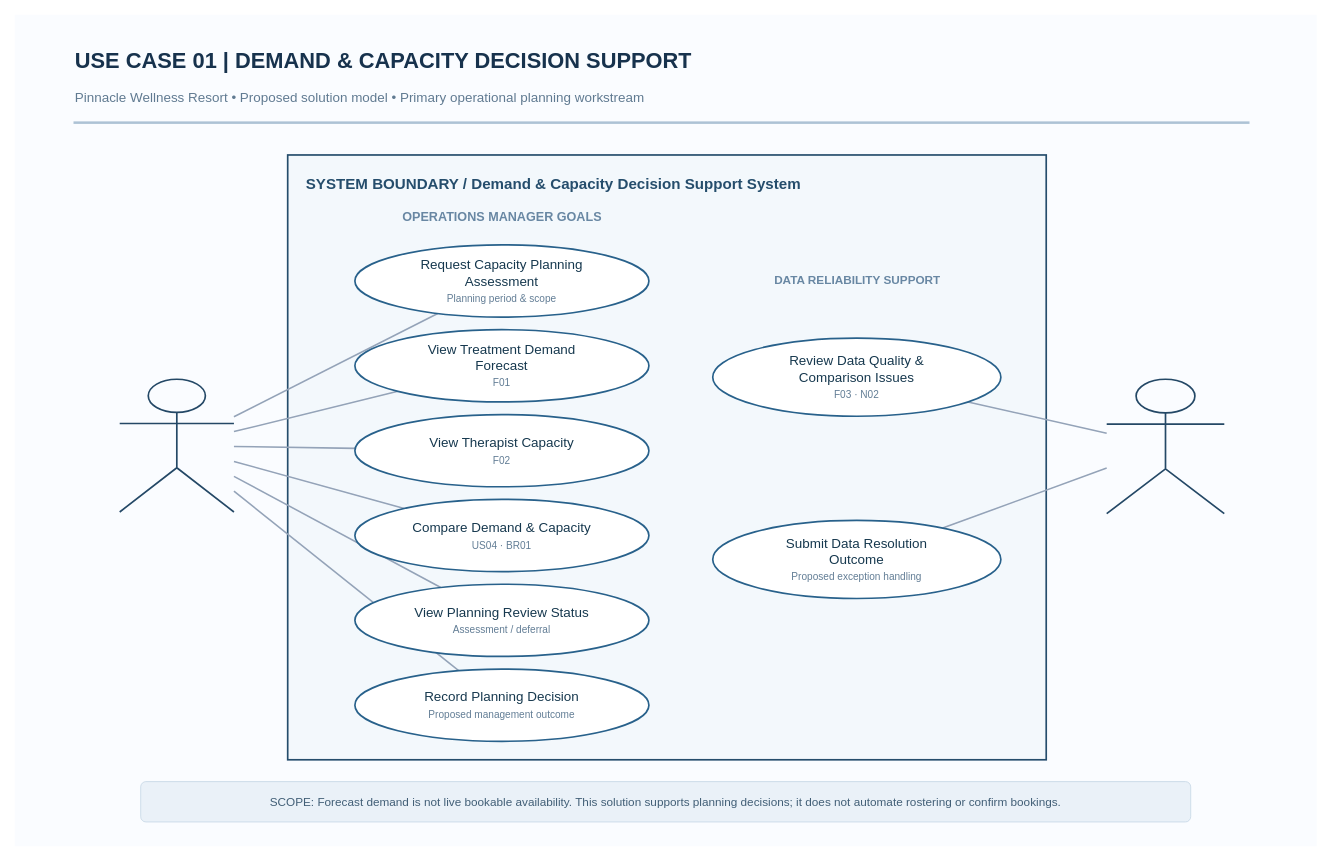
The diagram is 1331 pixels wide and 860 high, and some of its shapes have lost their labels. Each missing label, with the centre of its shape:
"Data Support (proposed role)" belongs at point (1165, 446).
"Operations Manager" belongs at point (176, 445).
